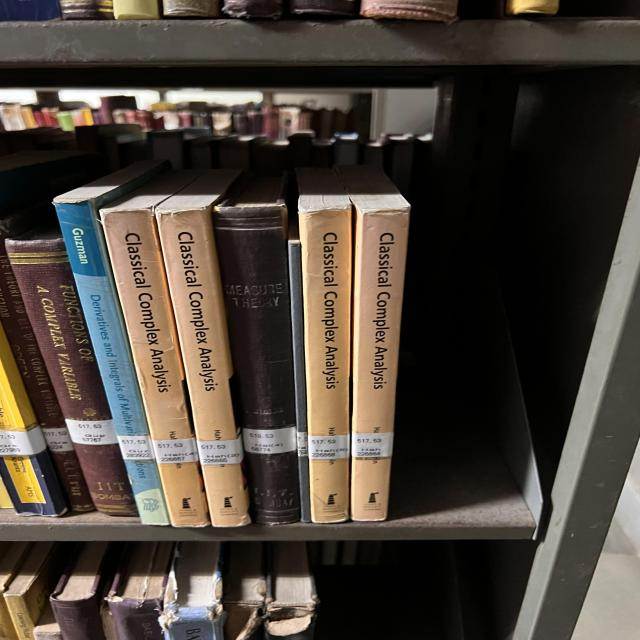Book: (53, 160, 170, 525), (100, 170, 208, 526), (7, 231, 137, 515), (155, 169, 250, 526), (213, 176, 300, 524), (0, 218, 95, 511), (337, 165, 410, 521), (297, 169, 352, 524), (0, 328, 67, 516), (288, 221, 312, 522)
Label: (242, 426, 297, 454), (0, 425, 47, 456), (65, 419, 118, 445), (197, 438, 243, 465), (152, 438, 198, 464), (352, 432, 393, 458), (308, 435, 350, 460), (117, 435, 155, 460), (42, 428, 73, 451)
